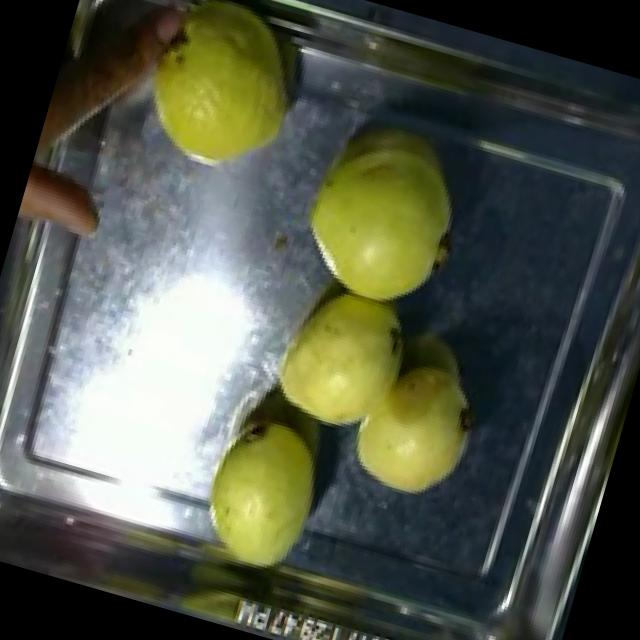Fruit: (278, 102, 483, 326), (116, 0, 326, 194), (250, 262, 432, 453), (180, 396, 342, 586), (330, 338, 494, 515)
